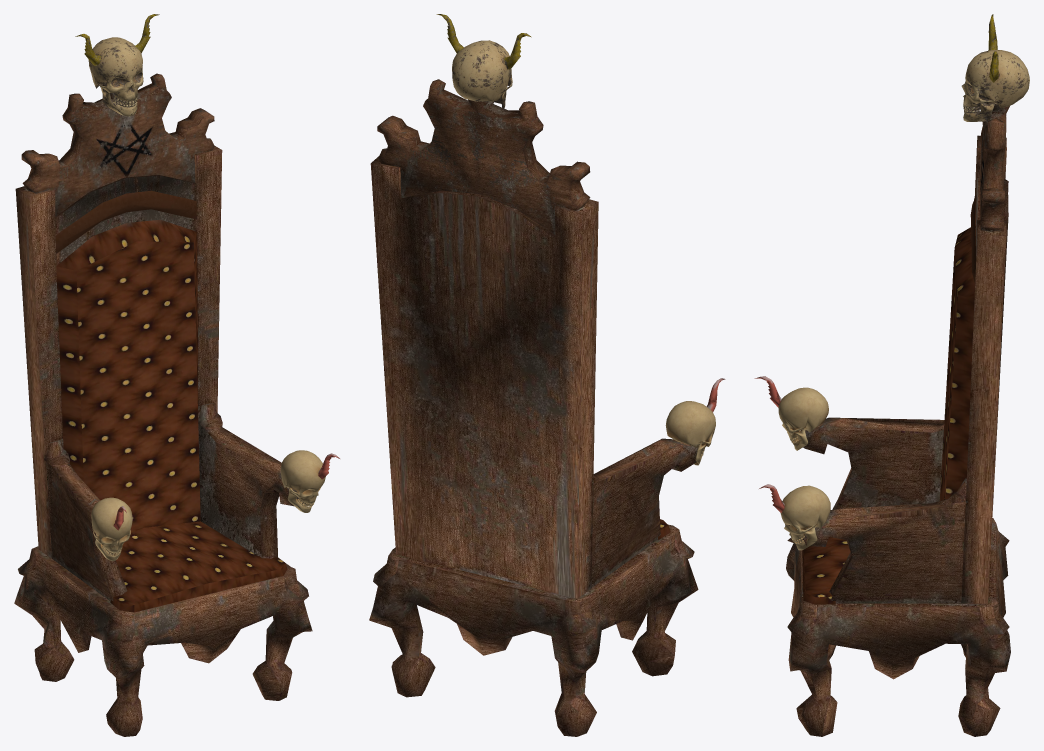
The model's file is satanic_lord_throne-optimized.glb.
The picture shows the model from 3 angles, left to right: view 1: azimuth 30°, elevation 25°; view 2: azimuth 150°, elevation 25°; view 3: azimuth 270°, elevation 25°; orthographic projection. The views are drawn at different scales.
Visible parts, largest first — view 1: DukeThrone.002, DukeThrone.003, DukeThrone.001, Object01_caveira 1_0, Object01.001_caveira 2_0, Object01.002_caveira 3_0, Group57349.001; view 2: DukeThrone.002, DukeThrone.001, Object01_caveira 1_0, Object01.002_caveira 3_0, Group57349.001; view 3: DukeThrone.002, DukeThrone.003, Object01_caveira 1_0, DukeThrone.001, Object01.001_caveira 2_0, Object01.002_caveira 3_0, Group57349.001.
Boxes of the visible parts, box(x1,y1,x2,y2) form: DukeThrone.002: box(14, 146, 312, 736); DukeThrone.003: box(56, 190, 287, 612); DukeThrone.001: box(21, 73, 214, 216); Object01_caveira 1_0: box(88, 37, 143, 116); Object01.001_caveira 2_0: box(280, 450, 325, 512); Object01.002_caveira 3_0: box(91, 497, 132, 561); Group57349.001: box(75, 14, 159, 65); DukeThrone.002: box(369, 156, 698, 736); DukeThrone.001: box(377, 79, 590, 234); Object01_caveira 1_0: box(452, 40, 512, 108); Object01.002_caveira 3_0: box(665, 401, 715, 465); Group57349.001: box(436, 14, 531, 69); DukeThrone.002: box(786, 135, 1010, 736); DukeThrone.003: box(802, 195, 976, 604); Object01_caveira 1_0: box(961, 50, 1029, 121); DukeThrone.001: box(979, 100, 1009, 231); Object01.001_caveira 2_0: box(780, 485, 830, 550); Object01.002_caveira 3_0: box(778, 387, 828, 450); Group57349.001: box(988, 14, 998, 82).
Bounding box in the file's own units: 183 × 480 × 182.
9 materials, 9 textured.
